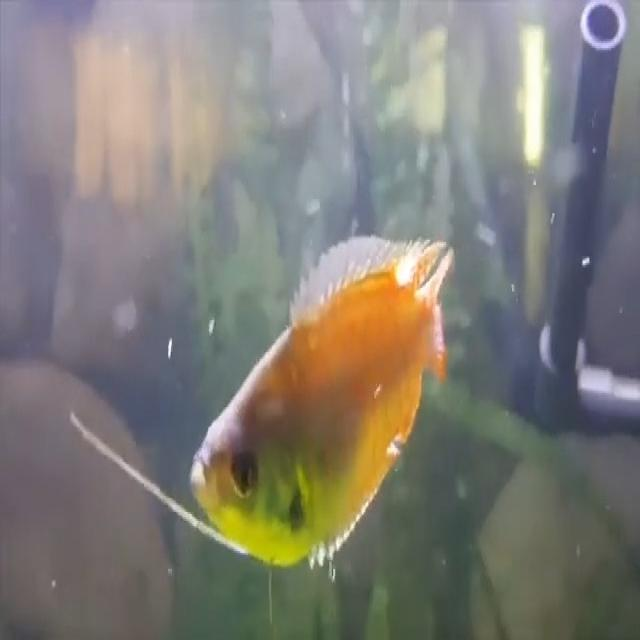fish: (187, 233, 460, 583)
